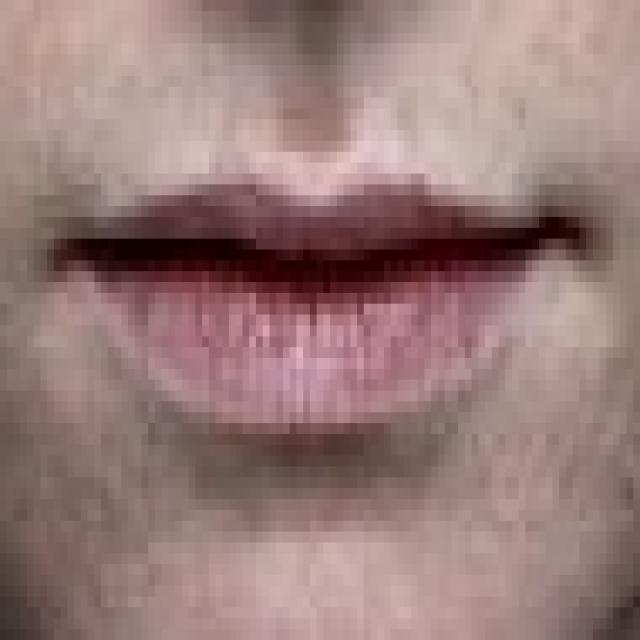closed-mouth: (41, 162, 586, 444)
